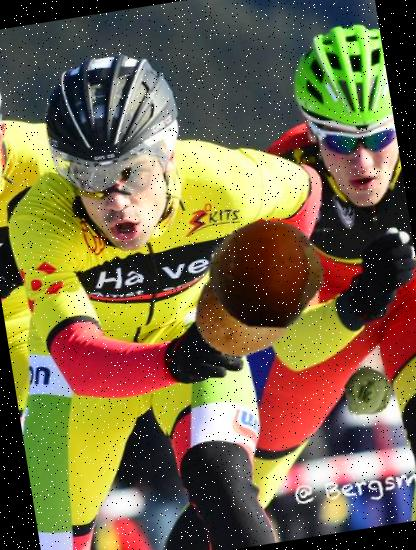Kiwi: (188, 254, 301, 368)
Kohlrabi: (338, 364, 397, 423)
Nut: (199, 206, 335, 342)
